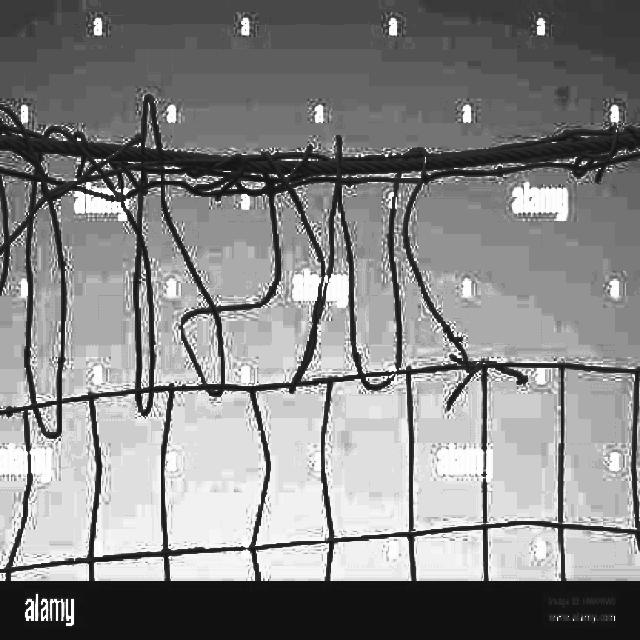anomaly-fence: (4, 123, 640, 424)
